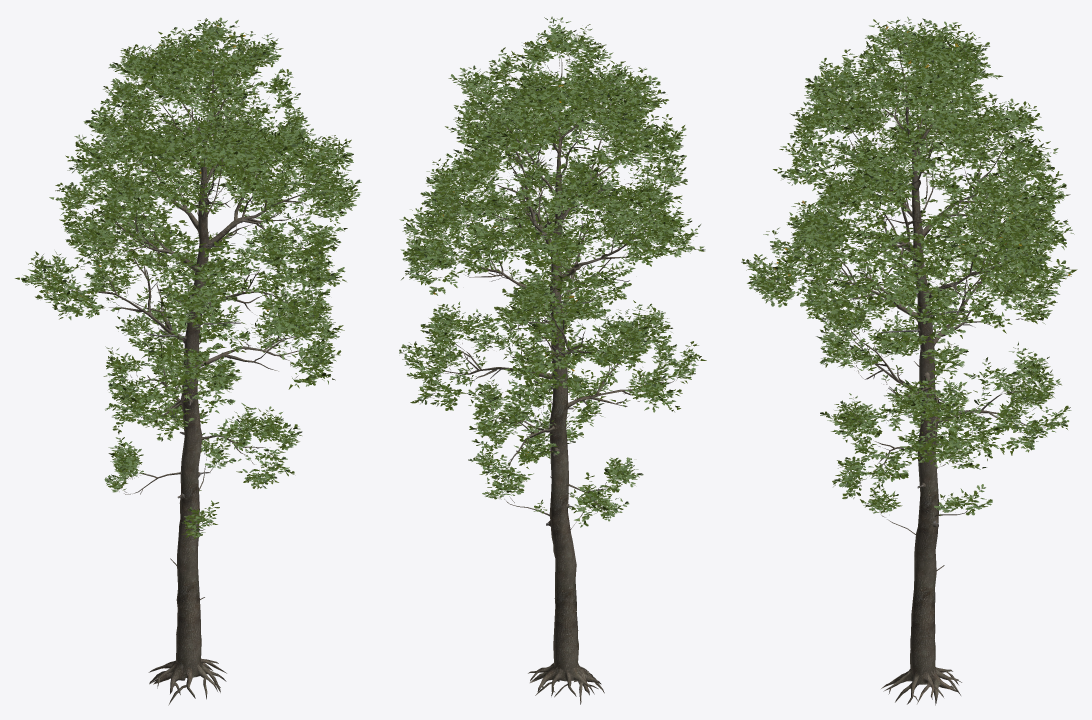
Rendered from quercus-robur-forest-ld-s101.glb.
3 renders of one model, left to right at view 1: azimuth 30°, elevation 25°; view 2: azimuth 150°, elevation 25°; view 3: azimuth 270°, elevation 25°, orthographic. The views are drawn at different scales.
Parts seen in each view (by area): view 1: ForestPlantCatalog_quercus-robur-forest-ld-s101; view 2: ForestPlantCatalog_quercus-robur-forest-ld-s101; view 3: ForestPlantCatalog_quercus-robur-forest-ld-s101.
Part boxes in pixels (left/top/right/bottom): ForestPlantCatalog_quercus-robur-forest-ld-s101: left=15, top=17, right=361, bottom=705; ForestPlantCatalog_quercus-robur-forest-ld-s101: left=399, top=16, right=706, bottom=704; ForestPlantCatalog_quercus-robur-forest-ld-s101: left=741, top=16, right=1077, bottom=705.
Size of the model in its own units: 7.41 by 16.5 by 7.4.
14 materials, 14 textured.
